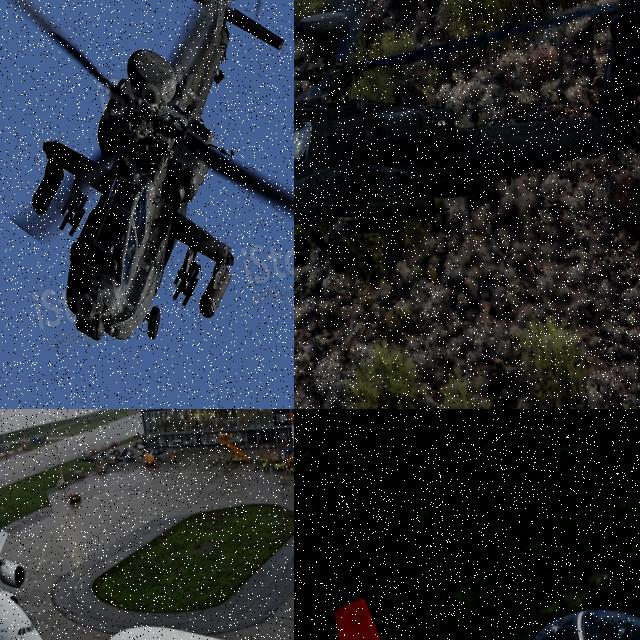A380: (78, 570, 294, 640)
Apache: (0, 0, 294, 371), (294, 0, 640, 314)
KT-1: (294, 498, 640, 640)
